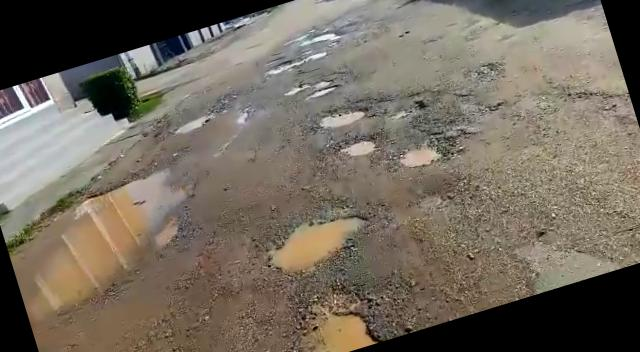pothole: (0, 165, 213, 324), (254, 198, 384, 284), (283, 284, 388, 352), (314, 100, 368, 134), (328, 128, 382, 162), (266, 50, 325, 76), (397, 141, 443, 170), (172, 111, 214, 134), (307, 82, 343, 100)
